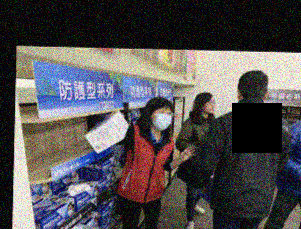with_mask: (151, 106, 174, 130)
without_mask: (203, 98, 217, 113)
